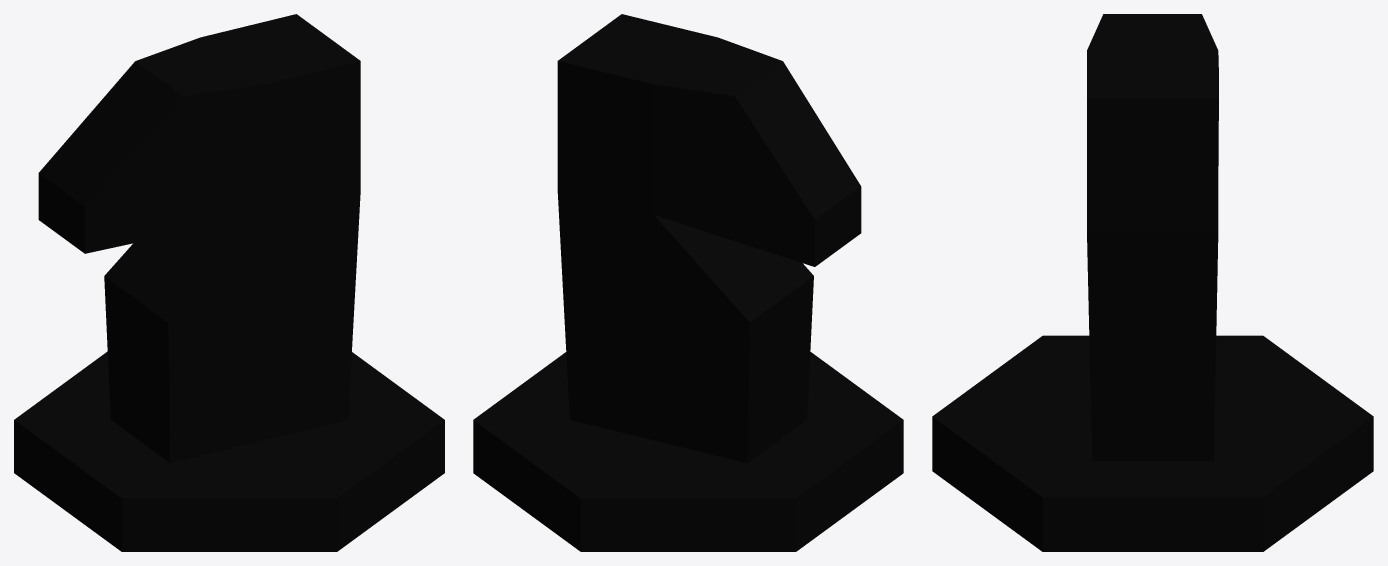
The model's file is chesspieceknight02.gltf.
The picture shows the model from 3 angles, left to right: view 1: azimuth 30°, elevation 25°; view 2: azimuth 150°, elevation 25°; view 3: azimuth 270°, elevation 25°; orthographic projection. The views are drawn at different scales.
Visible parts, largest first — view 1: Cylinder.002; view 2: Cylinder.002; view 3: Cylinder.002.
Boxes of the visible parts, x1,y1,x2,y2 form: Cylinder.002: (14,14,444,551); Cylinder.002: (473,14,903,551); Cylinder.002: (932,14,1373,551).
Size of the model in its own units: 0.0225 by 0.0274 by 0.026.
1 material, 1 textured.
